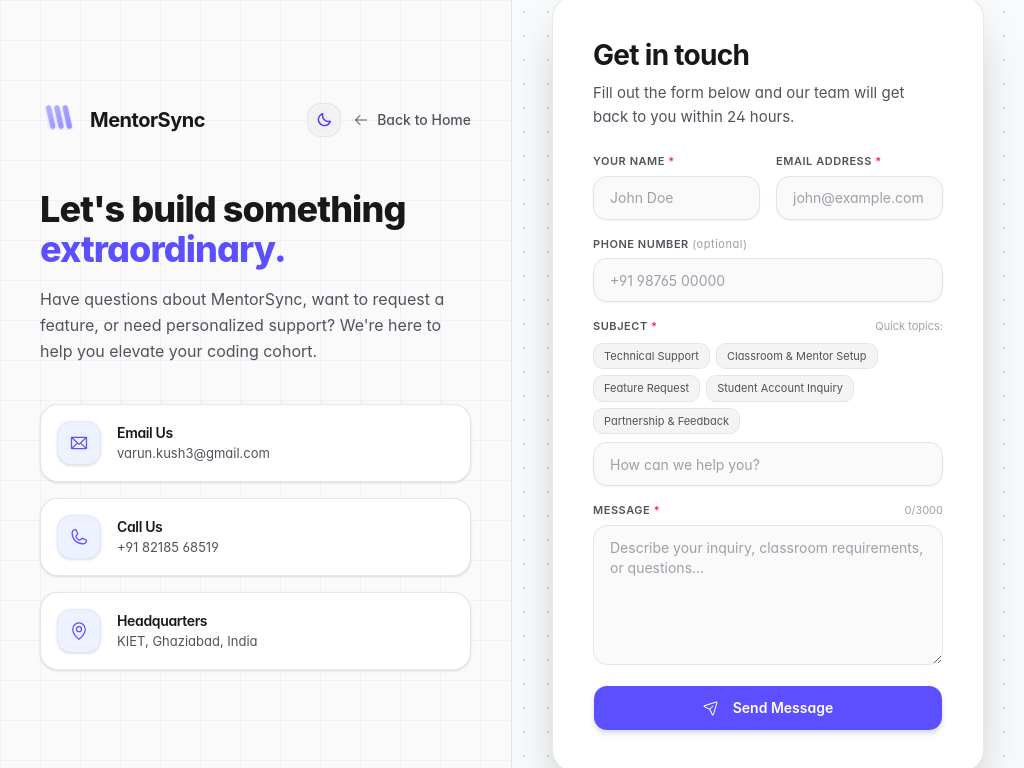
Test: ContactPage Functionality & Details › populates subject line when clicking a quick topic suggestion chip
Check: the field labelled "Subject *" is empty, box [593,442,943,486]
Click the button "Technical Support" at (651, 356), box [593,343,710,369]
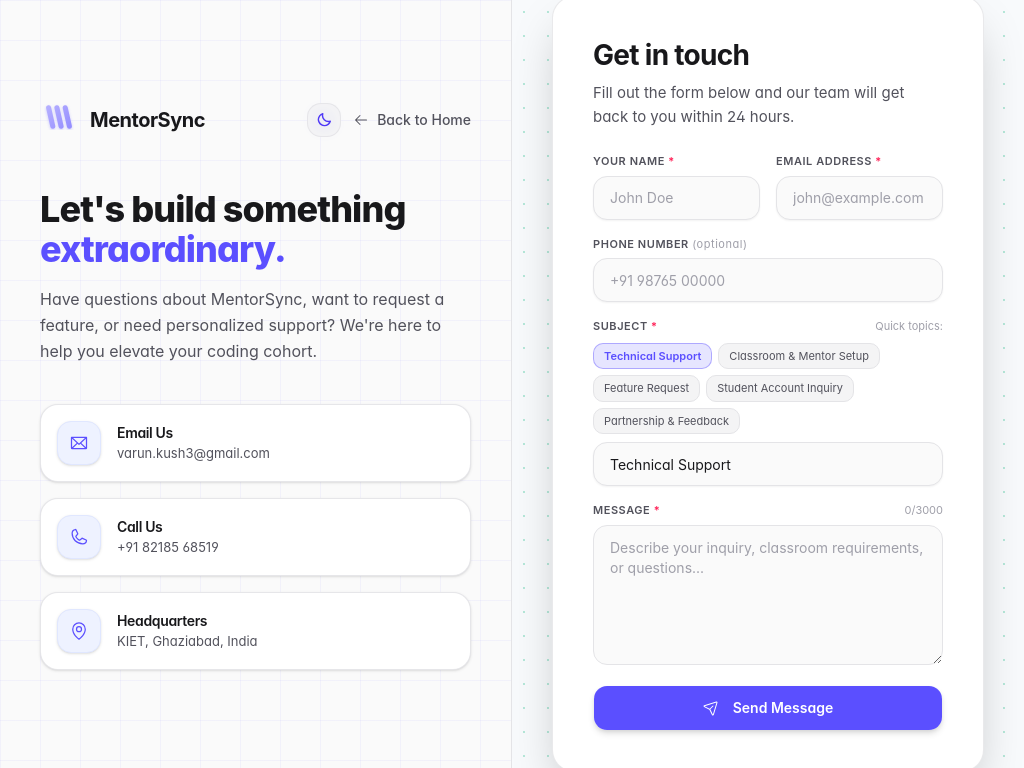
Check: the field labelled "Subject *" holds "Technical Support", box [593,442,943,486]
